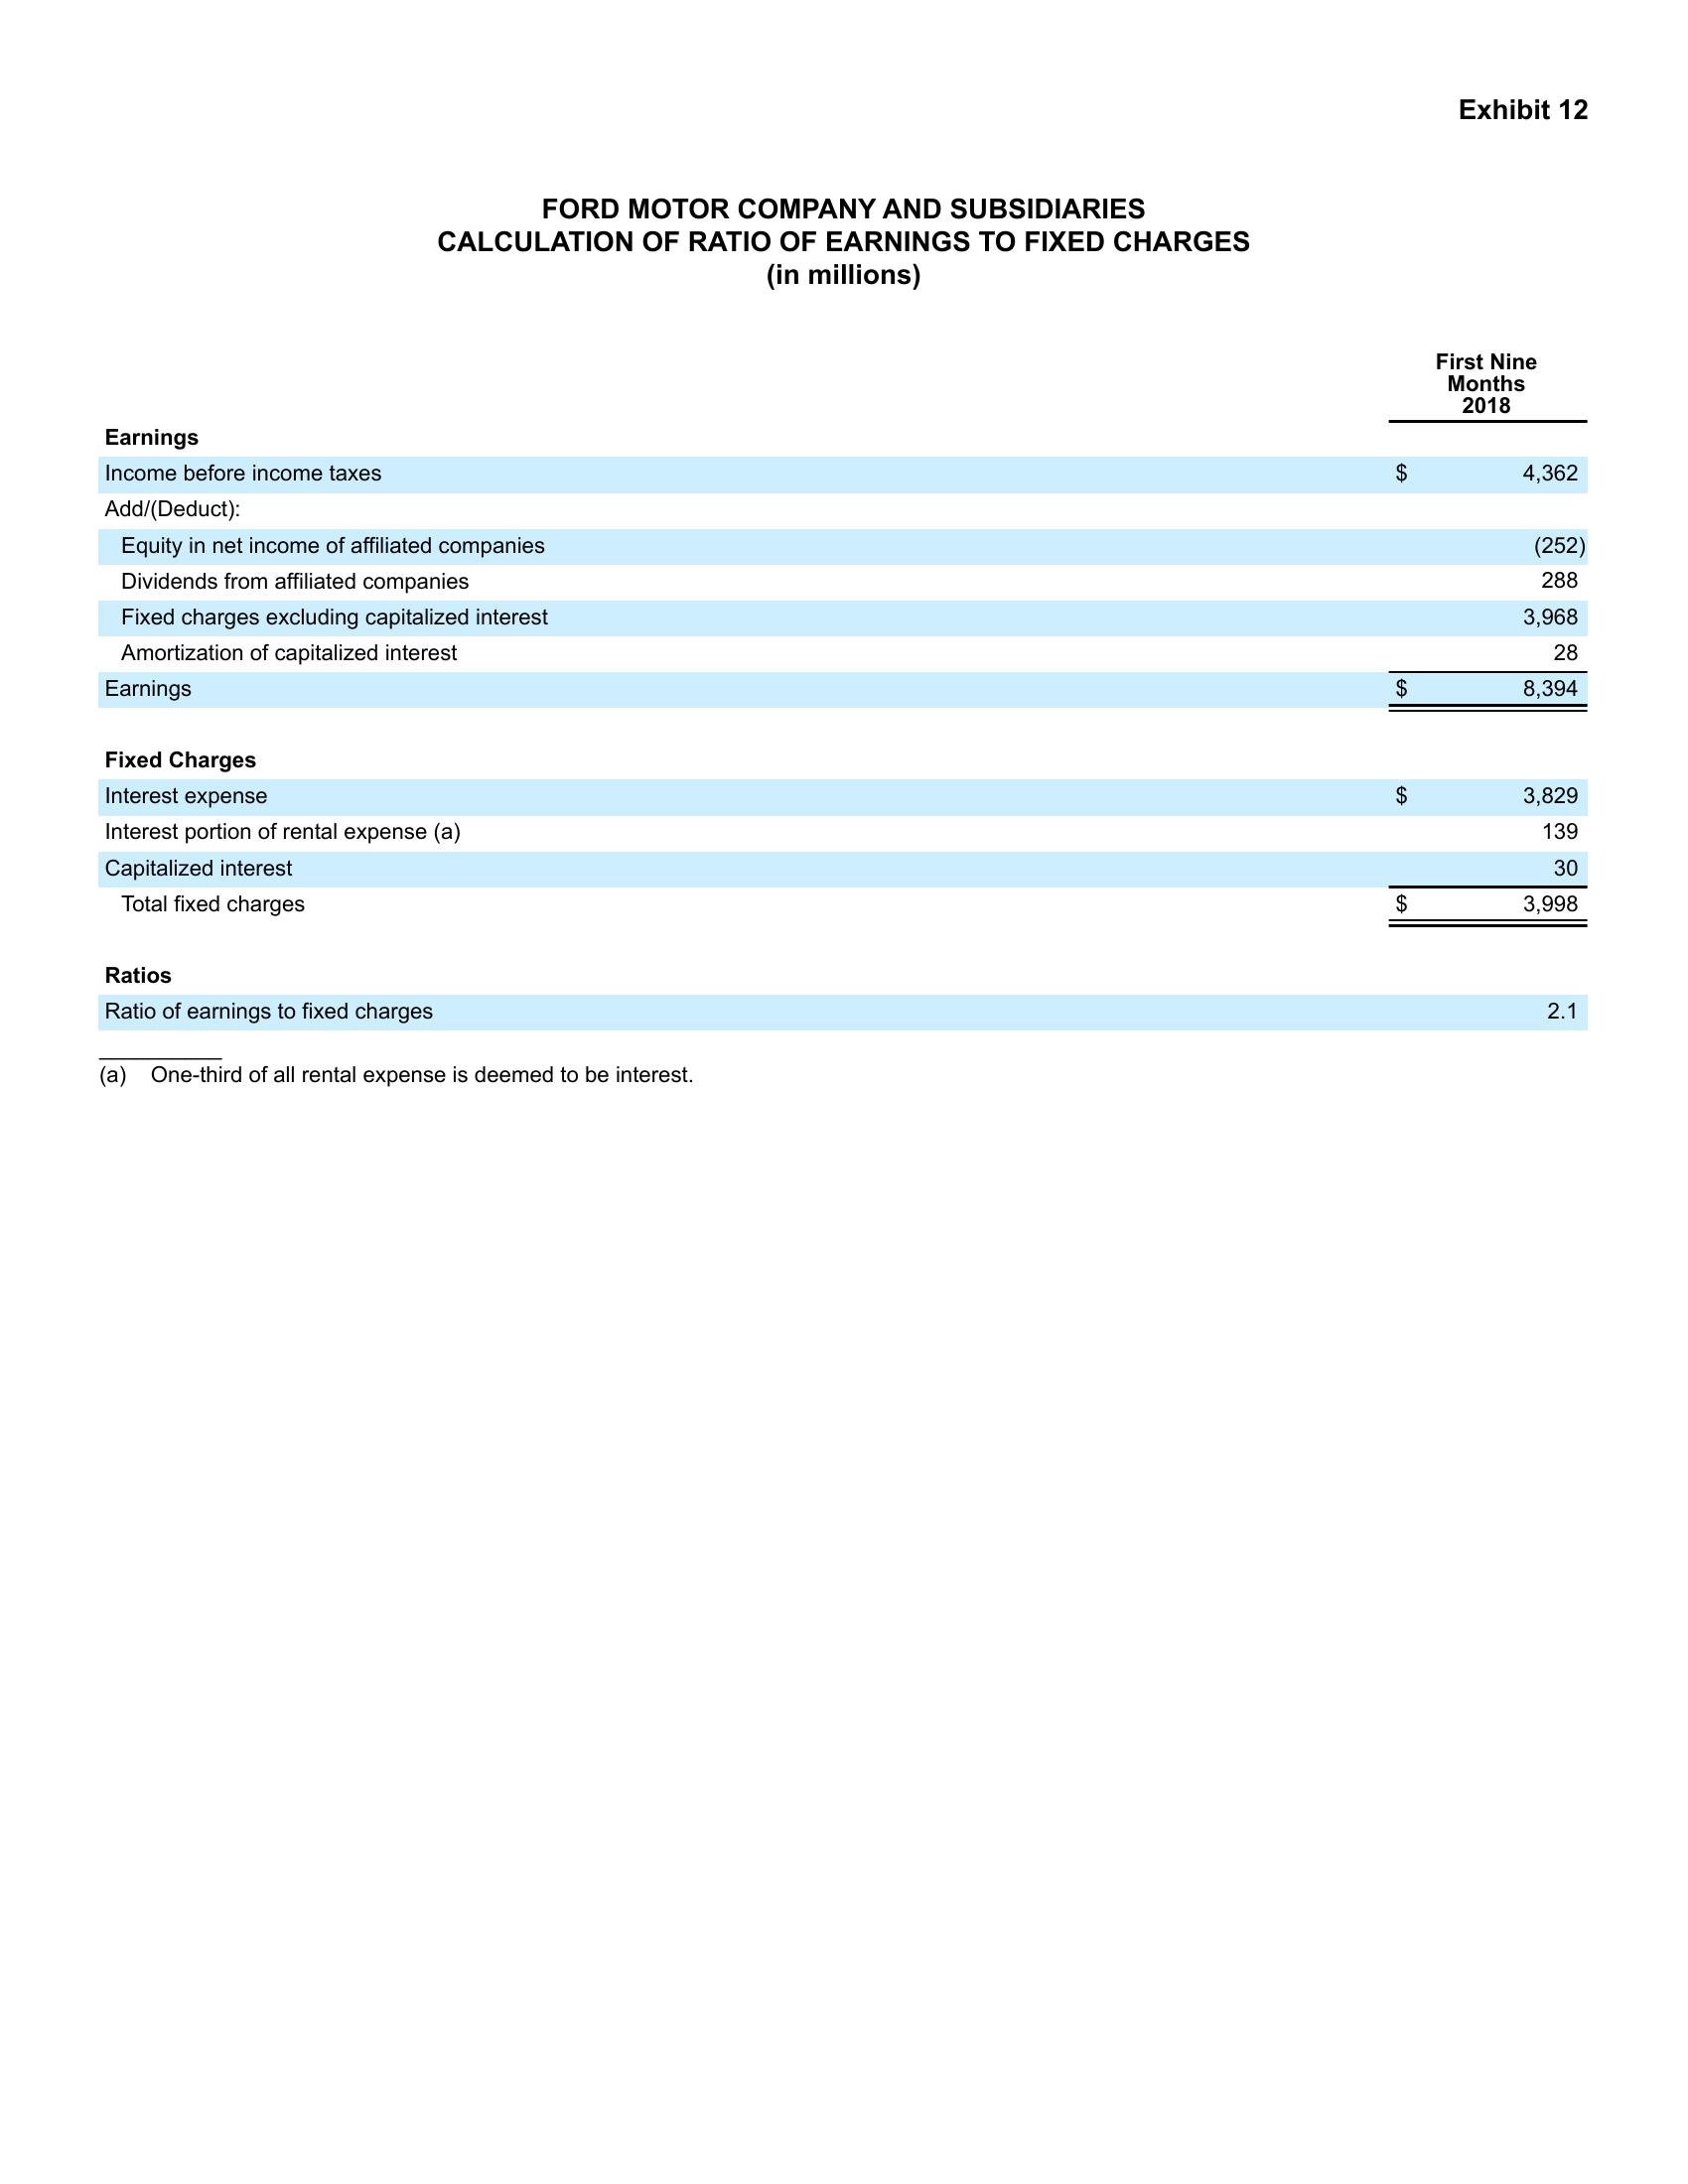table: (87, 342, 1599, 1030)
